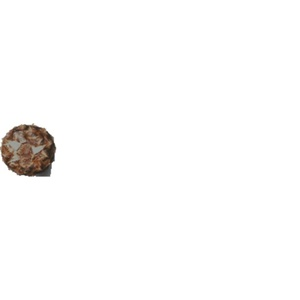abacaxi: (2, 121, 58, 177)
